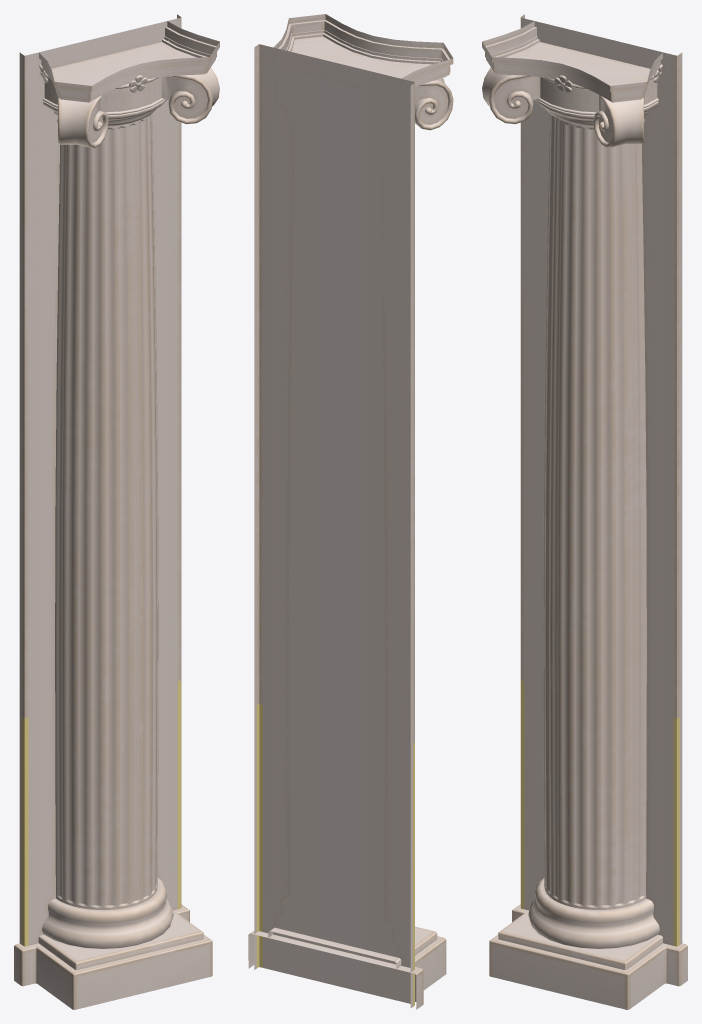
File: ColumnSplittedV1.fbx
3 renders of one model, left to right at view 1: azimuth 30°, elevation 25°; view 2: azimuth 150°, elevation 25°; view 3: azimuth 330°, elevation 25°, orthographic.
Visible parts, largest first — view 1: ColumnSplittedV1; view 2: ColumnSplittedV1; view 3: ColumnSplittedV1.
Part boxes in pixels (left/top/right/bottom): ColumnSplittedV1: left=14, top=14, right=219, bottom=1009; ColumnSplittedV1: left=248, top=14, right=453, bottom=1009; ColumnSplittedV1: left=482, top=14, right=687, bottom=1009.
Size of the model in its own units: 59.01 by 310 by 31.8.
1 material, 1 textured.
